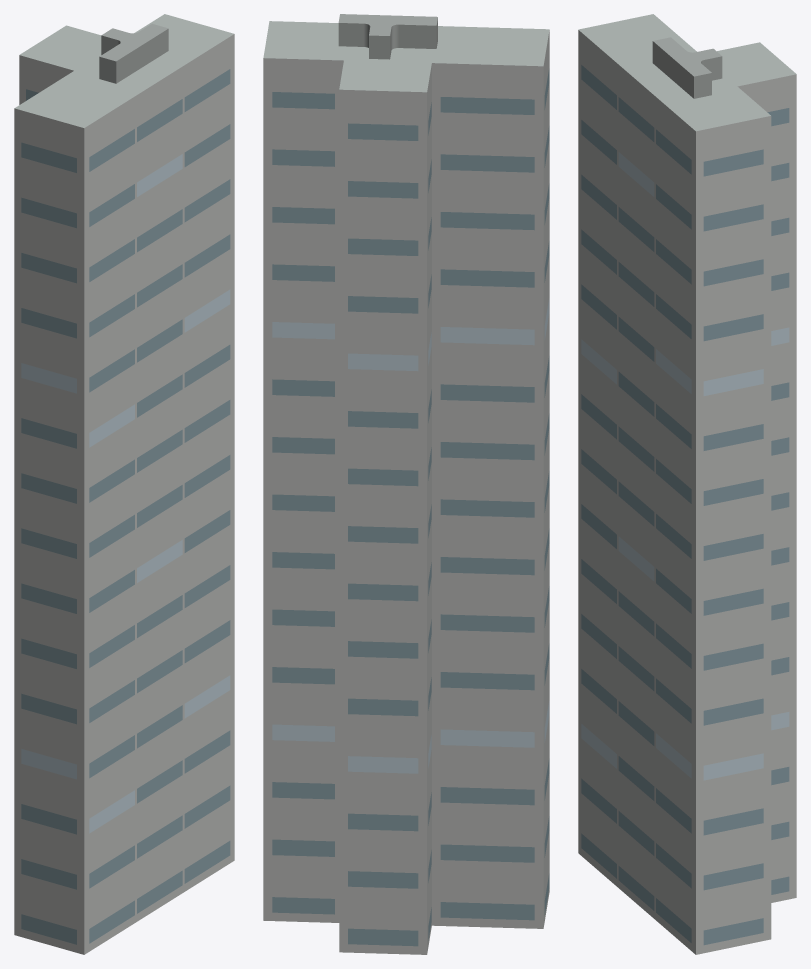
File: fallback-raemian-la-classy-102.glb
The picture shows the model from 3 angles, left to right: view 1: azimuth 30°, elevation 25°; view 2: azimuth 150°, elevation 25°; view 3: azimuth 270°, elevation 25°; orthographic projection. The views are drawn at different scales.
Visible parts, largest first — view 1: fallback-raemian-la-classy-102; view 2: fallback-raemian-la-classy-102; view 3: fallback-raemian-la-classy-102.
Boxes of the visible parts, x1,y1,x2,y2 form: fallback-raemian-la-classy-102: (14, 14, 234, 954); fallback-raemian-la-classy-102: (263, 14, 549, 954); fallback-raemian-la-classy-102: (578, 14, 796, 954).
Size of the model in its own units: 27.08 by 91 by 21.32.
